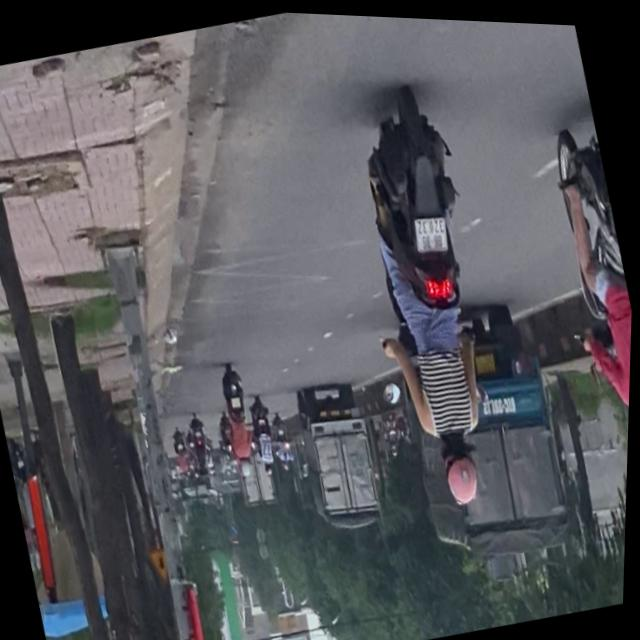helmet: (440, 431, 490, 504)
licenseplate: (329, 75, 535, 517), (531, 92, 638, 471)
nohelmet: (414, 211, 452, 252)
